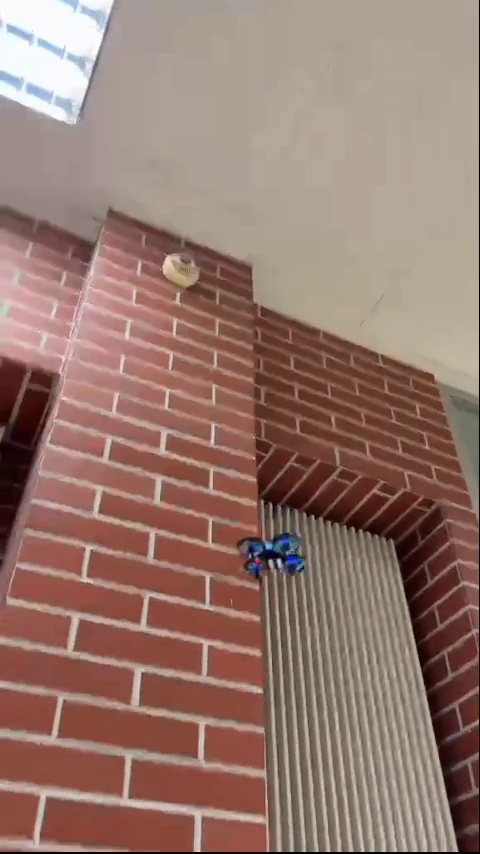drone: (240, 534, 303, 583)
